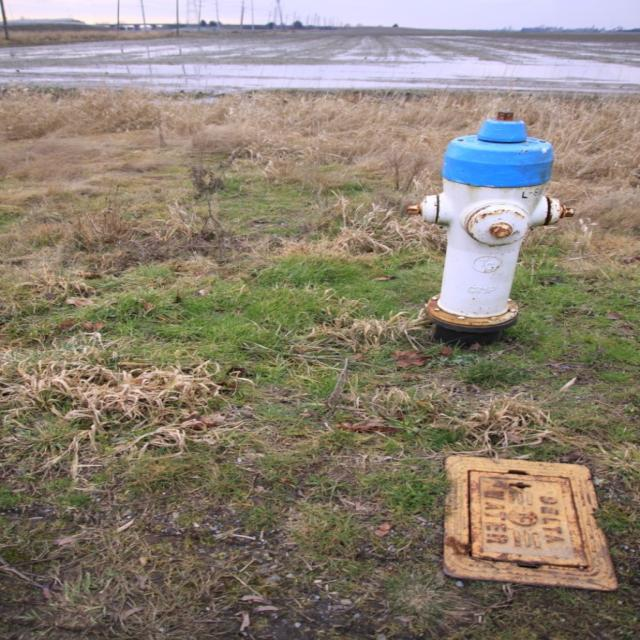fire_hydrant: (401, 110, 581, 348)
